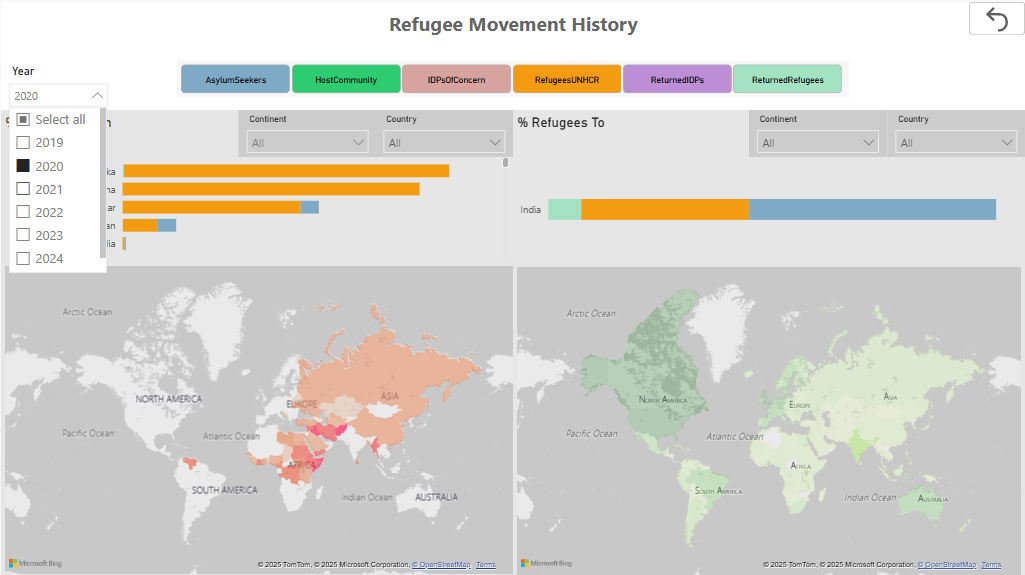

Layout of this report page (visuals, bound fields, positions):
{"tool":"powerbi","page":{"name":"Dashboard","canvas":[1280,720],"ordinal":0},"visuals":[{"type":"textbox","box":[462,5,356,47],"z":0},{"type":"slicer","fields":{"Values":["YearDim.Year"]},"box":[1122,56,143,61],"z":1000},{"type":"advancedSlicerVisual","fields":{"Values":["PopulationTypeDim.PopulationType"]},"box":[220,73,840,46],"z":2000},{"type":"filledMap","title":"Refugees Fleeing From","fields":{"Category":["RefugeeFact.CountryOrigin"]},"box":[0,325.5,648.2,394.5],"z":3000},{"type":"filledMap","title":"Refugee Fleeing To","fields":{"Category":["RefugeeFact.CountryAsylum"]},"box":[640,326.2,640,393.8],"z":4000},{"type":"group","id":"g1","title":"Group 1","box":[0,135,640,191.4],"z":5000},{"type":"barChart","title":"      ","fields":{"Series":["RefugeeFact.PopulationType"],"Category":["RefugeeFact.CountryAsylum"],"Y":["CountNonNull(RefugeeFact.PopulationCount)"]},"box":[640,167,640,160],"z":5000,"group":"g2"},{"type":"group","id":"g2","title":"Group 3","box":[640,135,640,192],"z":6000},{"type":"group","id":"g3","title":"Group 2","box":[640,135,640,51],"z":8000,"group":"g2"},{"type":"textbox","box":[0,135,297,59],"z":12000,"group":"g1"},{"type":"textbox","box":[640,135,145.7,31.9],"z":12000,"group":"g3"},{"type":"barChart","title":"      ","fields":{"Series":["RefugeeFact.PopulationType"],"Y":["Bar.Filtered Refugee Population"],"Category":["RefugeeFact.CountryOrigin"]},"box":[0,166.5,640,159.8],"z":13500,"group":"g1"},{"type":"slicer","fields":{"Values":["RefugeeFact.ContinentAsylum"]},"box":[935,135,173,51],"z":14500,"group":"g3"},{"type":"slicer","fields":{"Values":["RefugeeFact.CountryAsylum"]},"box":[1108,135,172,51],"z":15000,"group":"g3"},{"type":"slicer","fields":{"Values":["RefugeeFact.ContinentOrigin"]},"box":[296.6,135.3,172.4,56.2],"z":15500,"group":"g1"},{"type":"slicer","fields":{"Values":["RefugeeFact.CountryOrigin"]},"box":[467.6,135.3,172.4,56.2],"z":16000,"group":"g1"}]}

Visuals, with their boxes in screenshot pixels (x1, y1, x2, y2), scaled from the page's 1280x720 canvas onto the 1025x575 screenshot:
textbox: (x1=370, y1=4, x2=655, y2=42)
slicer - YearDim.Year: (x1=898, y1=45, x2=1013, y2=93)
advancedSlicerVisual - PopulationTypeDim.PopulationType: (x1=176, y1=58, x2=849, y2=95)
"Refugees Fleeing From" filledMap: (x1=0, y1=260, x2=519, y2=574)
"Refugee Fleeing To" filledMap: (x1=512, y1=261, x2=1024, y2=574)
"Group 1" group: (x1=0, y1=108, x2=512, y2=261)
"      " barChart: (x1=512, y1=133, x2=1024, y2=261)
"Group 3" group: (x1=512, y1=108, x2=1024, y2=261)
"Group 2" group: (x1=512, y1=108, x2=1024, y2=149)
textbox: (x1=0, y1=108, x2=238, y2=155)
textbox: (x1=512, y1=108, x2=629, y2=133)
"      " barChart: (x1=0, y1=133, x2=512, y2=261)
slicer - RefugeeFact.ContinentAsylum: (x1=749, y1=108, x2=887, y2=149)
slicer - RefugeeFact.CountryAsylum: (x1=887, y1=108, x2=1024, y2=149)
slicer - RefugeeFact.ContinentOrigin: (x1=238, y1=108, x2=376, y2=153)
slicer - RefugeeFact.CountryOrigin: (x1=374, y1=108, x2=512, y2=153)
